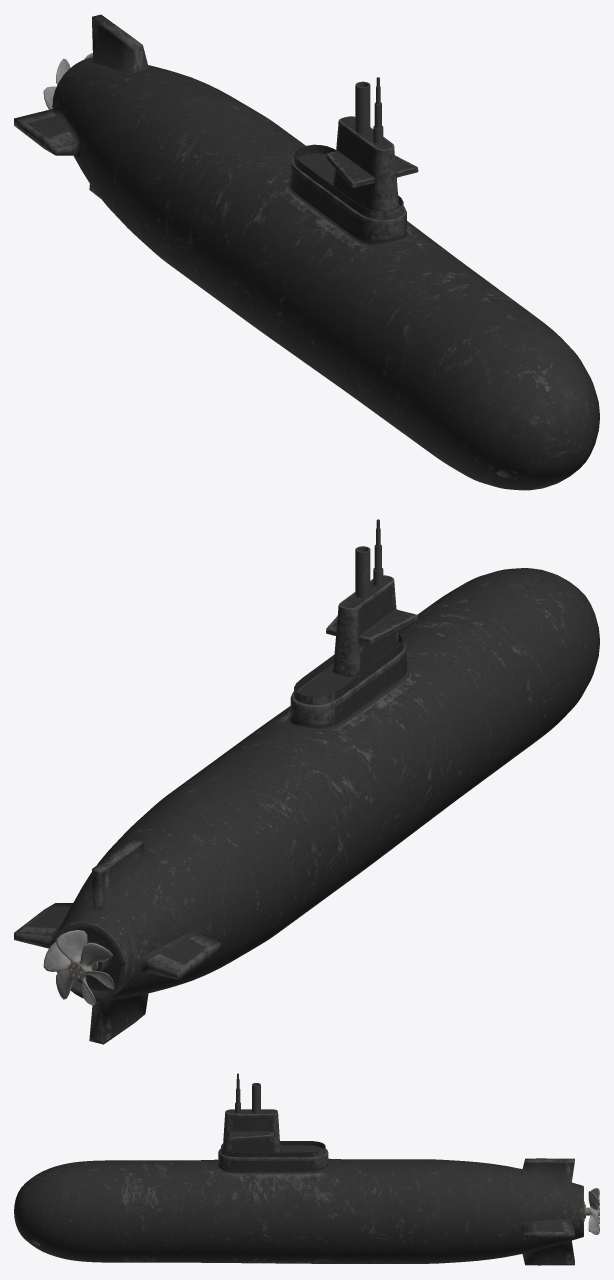
File: submarine.obj
3 views of the same model, one above another, from view 1: azimuth 30°, elevation 25°; view 2: azimuth 150°, elevation 25°; view 3: azimuth 270°, elevation 25° (orthographic). The views are drawn at different scales.
Parts seen in each view (by area): view 1: 02_low, 03_low, 05_low; view 2: 02_low, 10_low, 03_low, 05_low; view 3: 02_low, 03_low, 10_low, 05_low.
Part boxes in pixels (<box>): 02_low: <box>14,14,599,490</box>; 03_low: <box>294,144,403,219</box>; 05_low: <box>355,81,370,133</box>; 02_low: <box>14,568,599,1044</box>; 10_low: <box>43,930,114,1005</box>; 03_low: <box>294,633,403,704</box>; 05_low: <box>355,546,370,597</box>; 02_low: <box>14,1109,584,1265</box>; 03_low: <box>221,1141,325,1157</box>; 10_low: <box>588,1188,599,1234</box>; 05_low: <box>252,1083,260,1113</box>.
Size of the model in its own units: 3.64 by 6.67 by 18.73.
